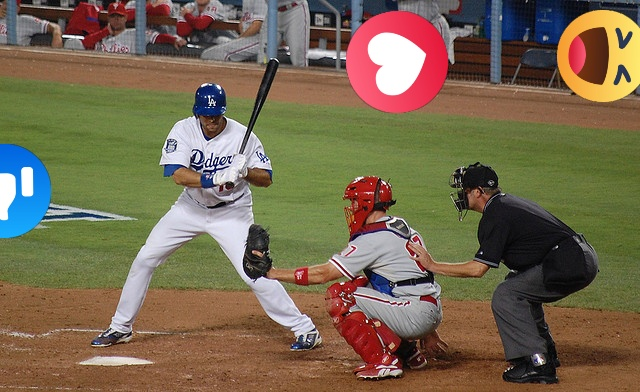haha: (557, 10, 640, 102)
like: (0, 144, 51, 238)
love: (346, 11, 448, 113)
